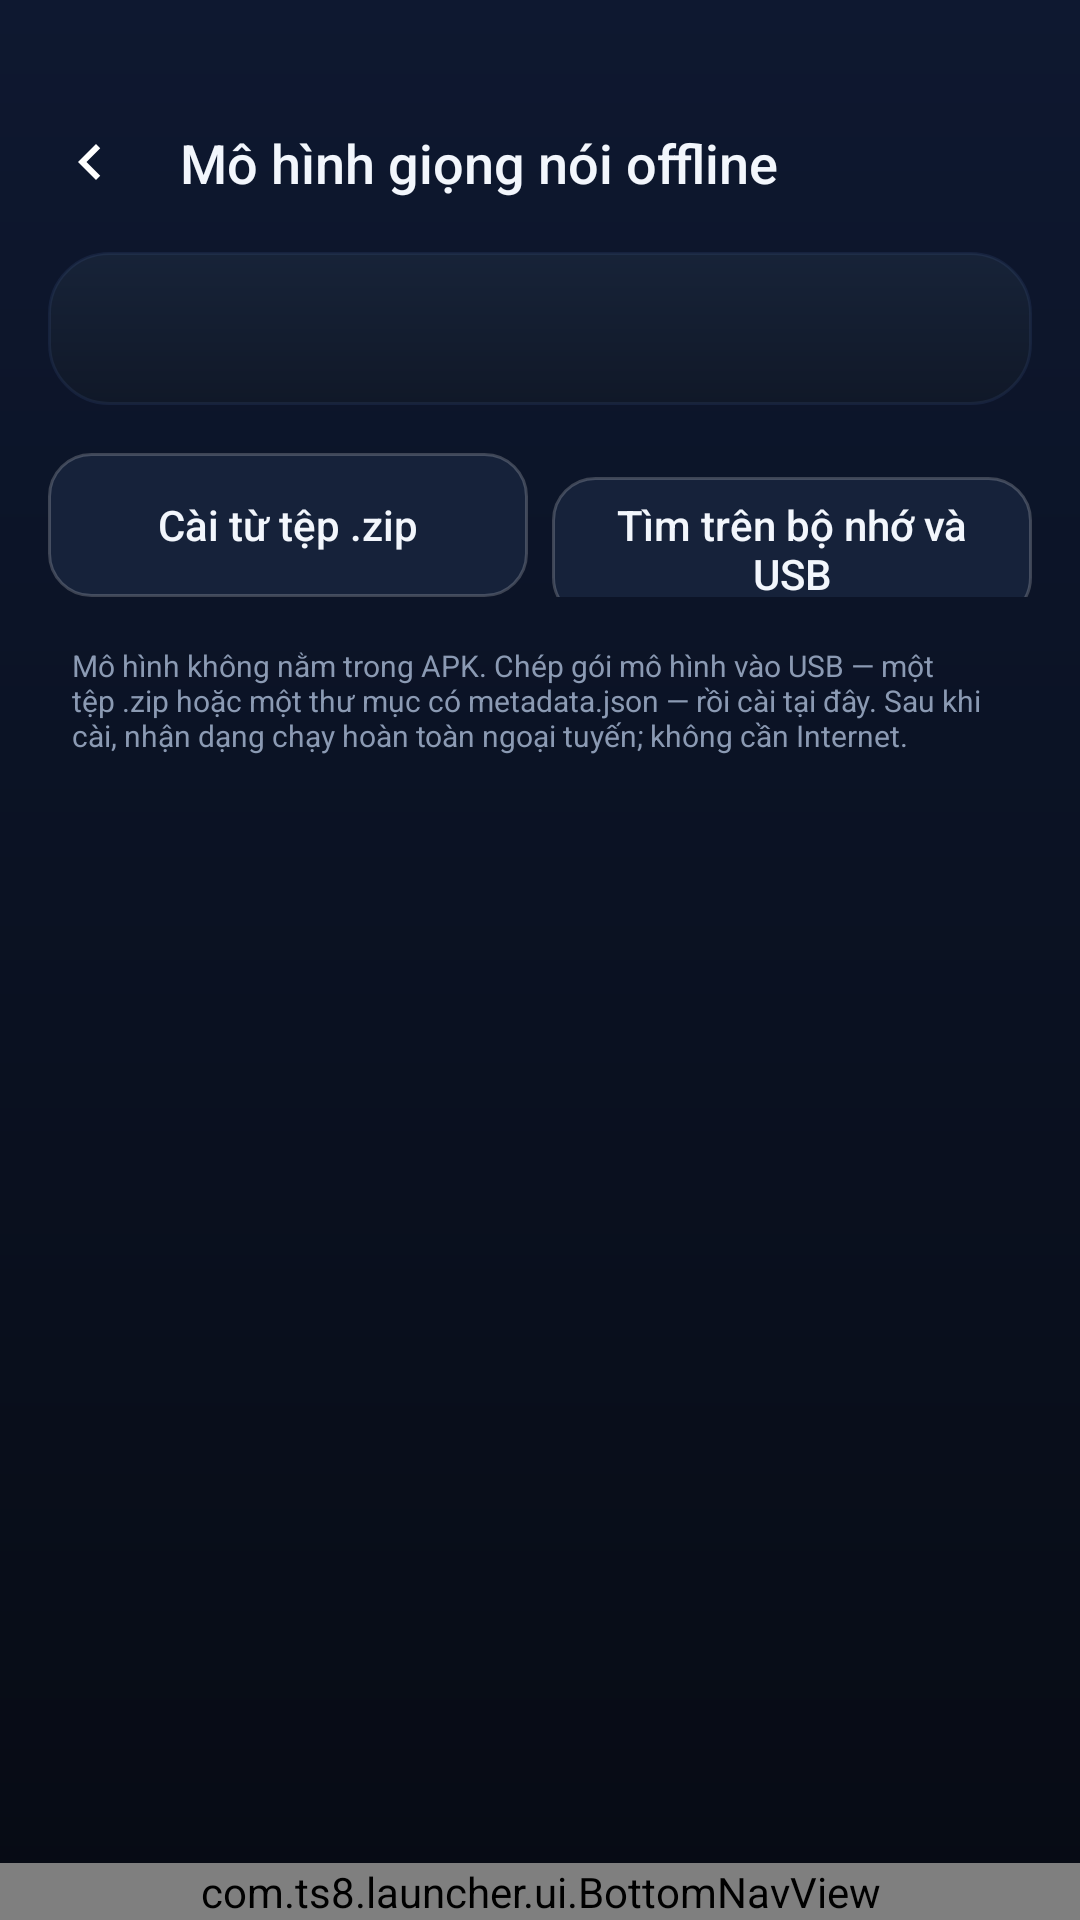

Icons on this 1080w x 1920h Android screen, each with the point to tap as (x,y):
Quay lại: (89,162)
